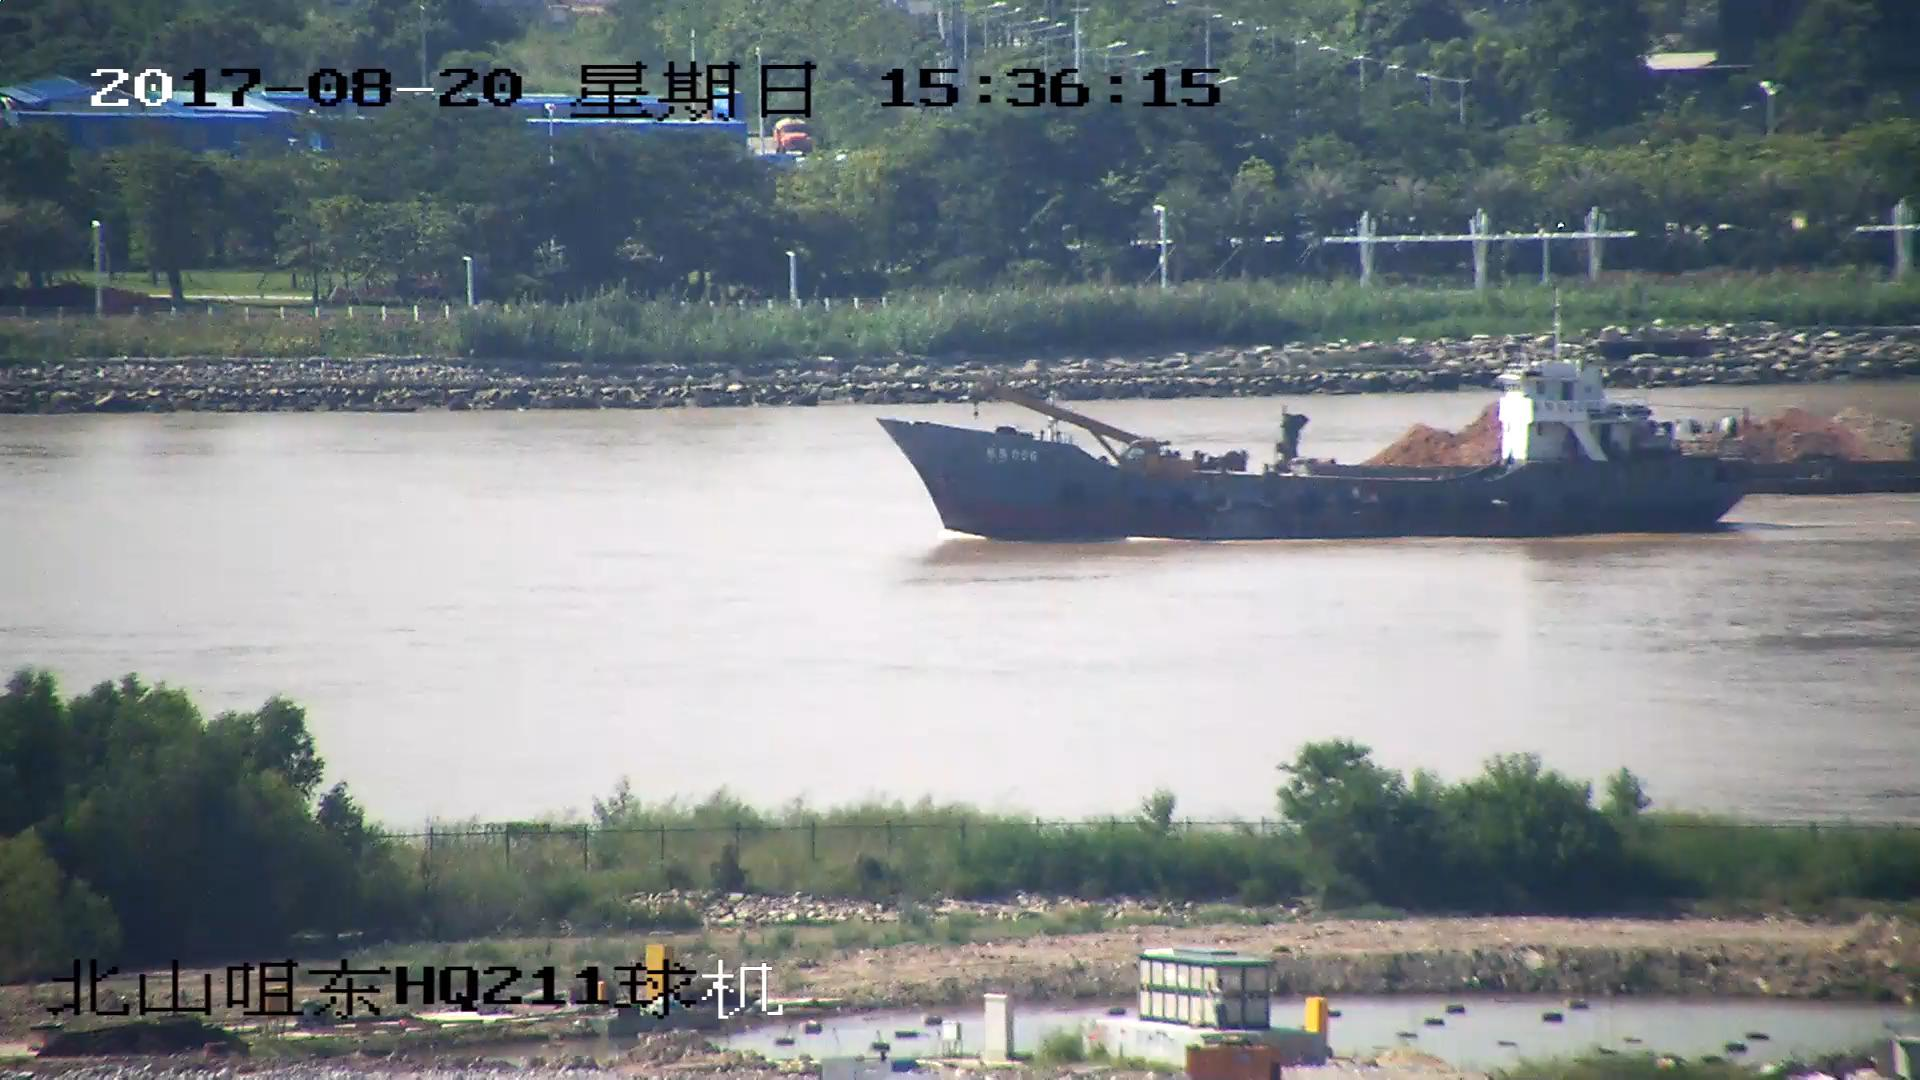Ship: (877, 285, 1753, 545), (1284, 386, 1920, 501)
